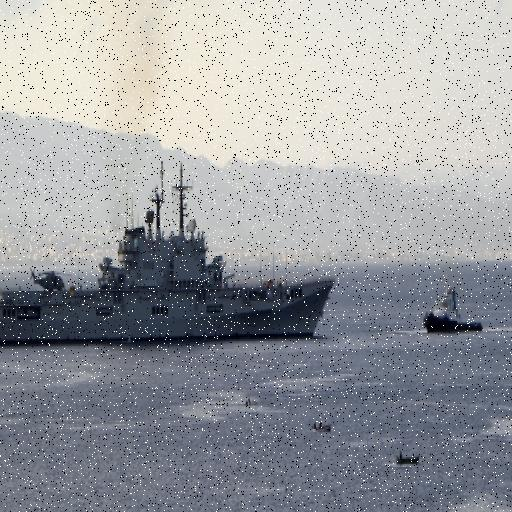Portanaves: (1, 157, 337, 356)
